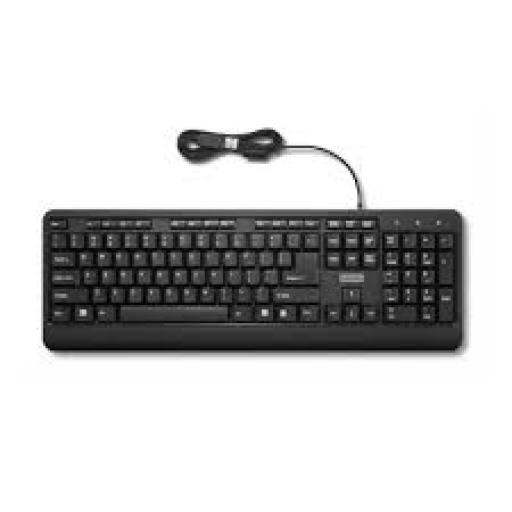keyboard: (41, 209, 462, 348)
